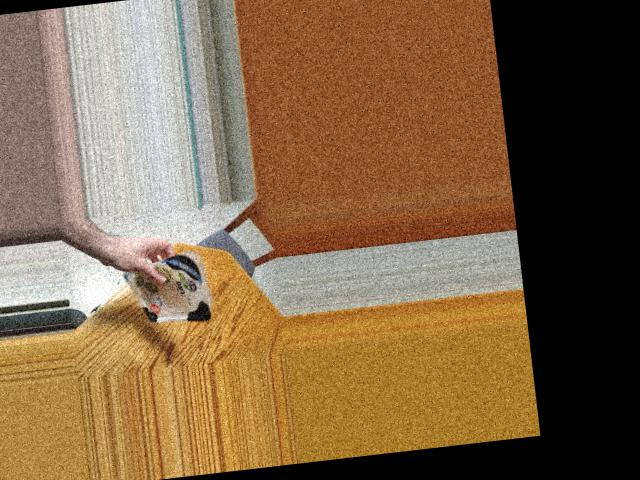cheese: (137, 247, 218, 323)
